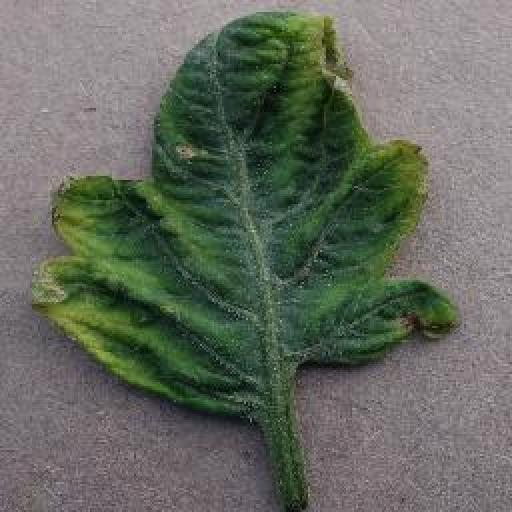disease_tomato: (30, 10, 458, 420)
